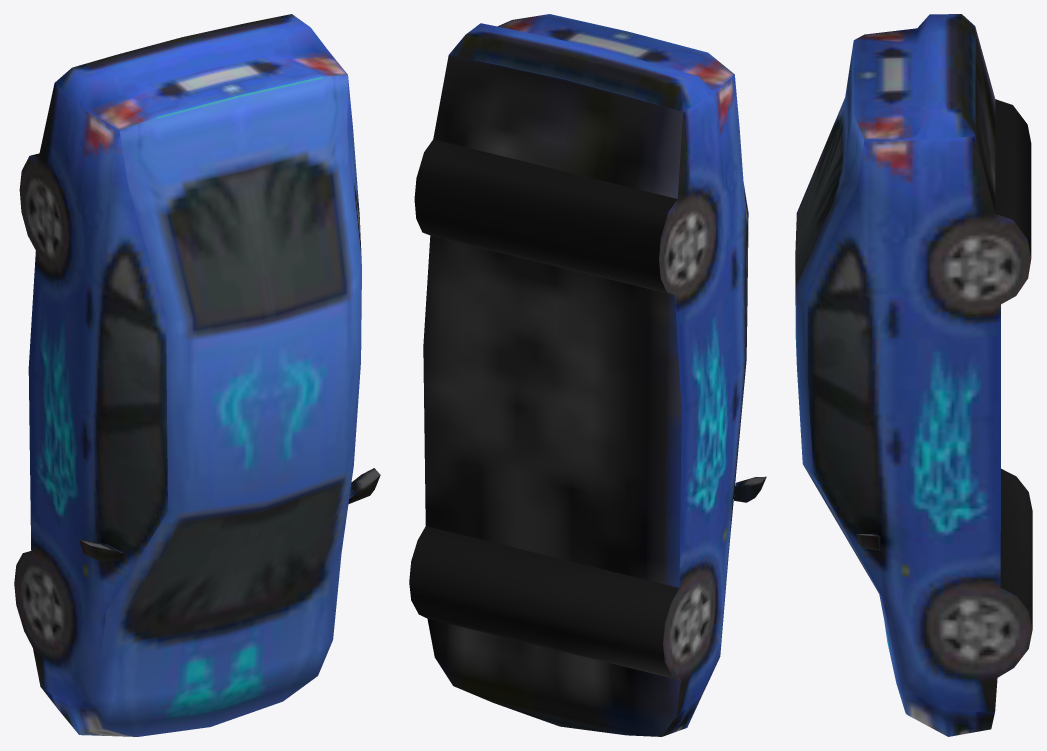
File: RaceCar3_L.fbx
The picture shows the model from 3 angles, left to right: view 1: azimuth 30°, elevation 25°; view 2: azimuth 150°, elevation 25°; view 3: azimuth 270°, elevation 25°; orthographic projection. The views are drawn at different scales.
Parts seen in each view (by area): view 1: RaceCar3_L; view 2: RaceCar3_L; view 3: RaceCar3_L.
Part boxes in pixels (x1,y1,x2,y2): RaceCar3_L: (14,14,380,736); RaceCar3_L: (409,14,766,736); RaceCar3_L: (795,14,1032,736).
Size of the model in its own units: 196 by 433 by 145.
Materials: 1 (1 with a texture image).
